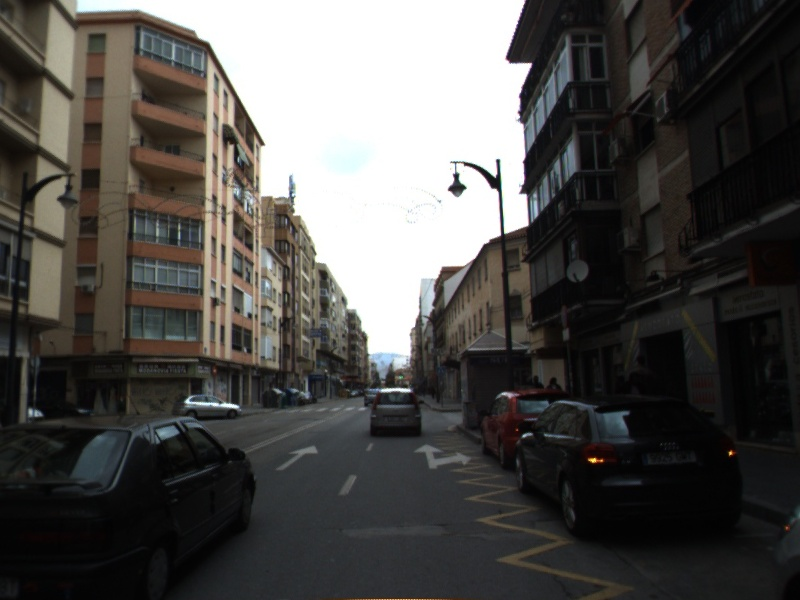STRAIGHT: (274, 443, 321, 472)
STRAIGHT_RIGHT: (411, 442, 474, 471)
